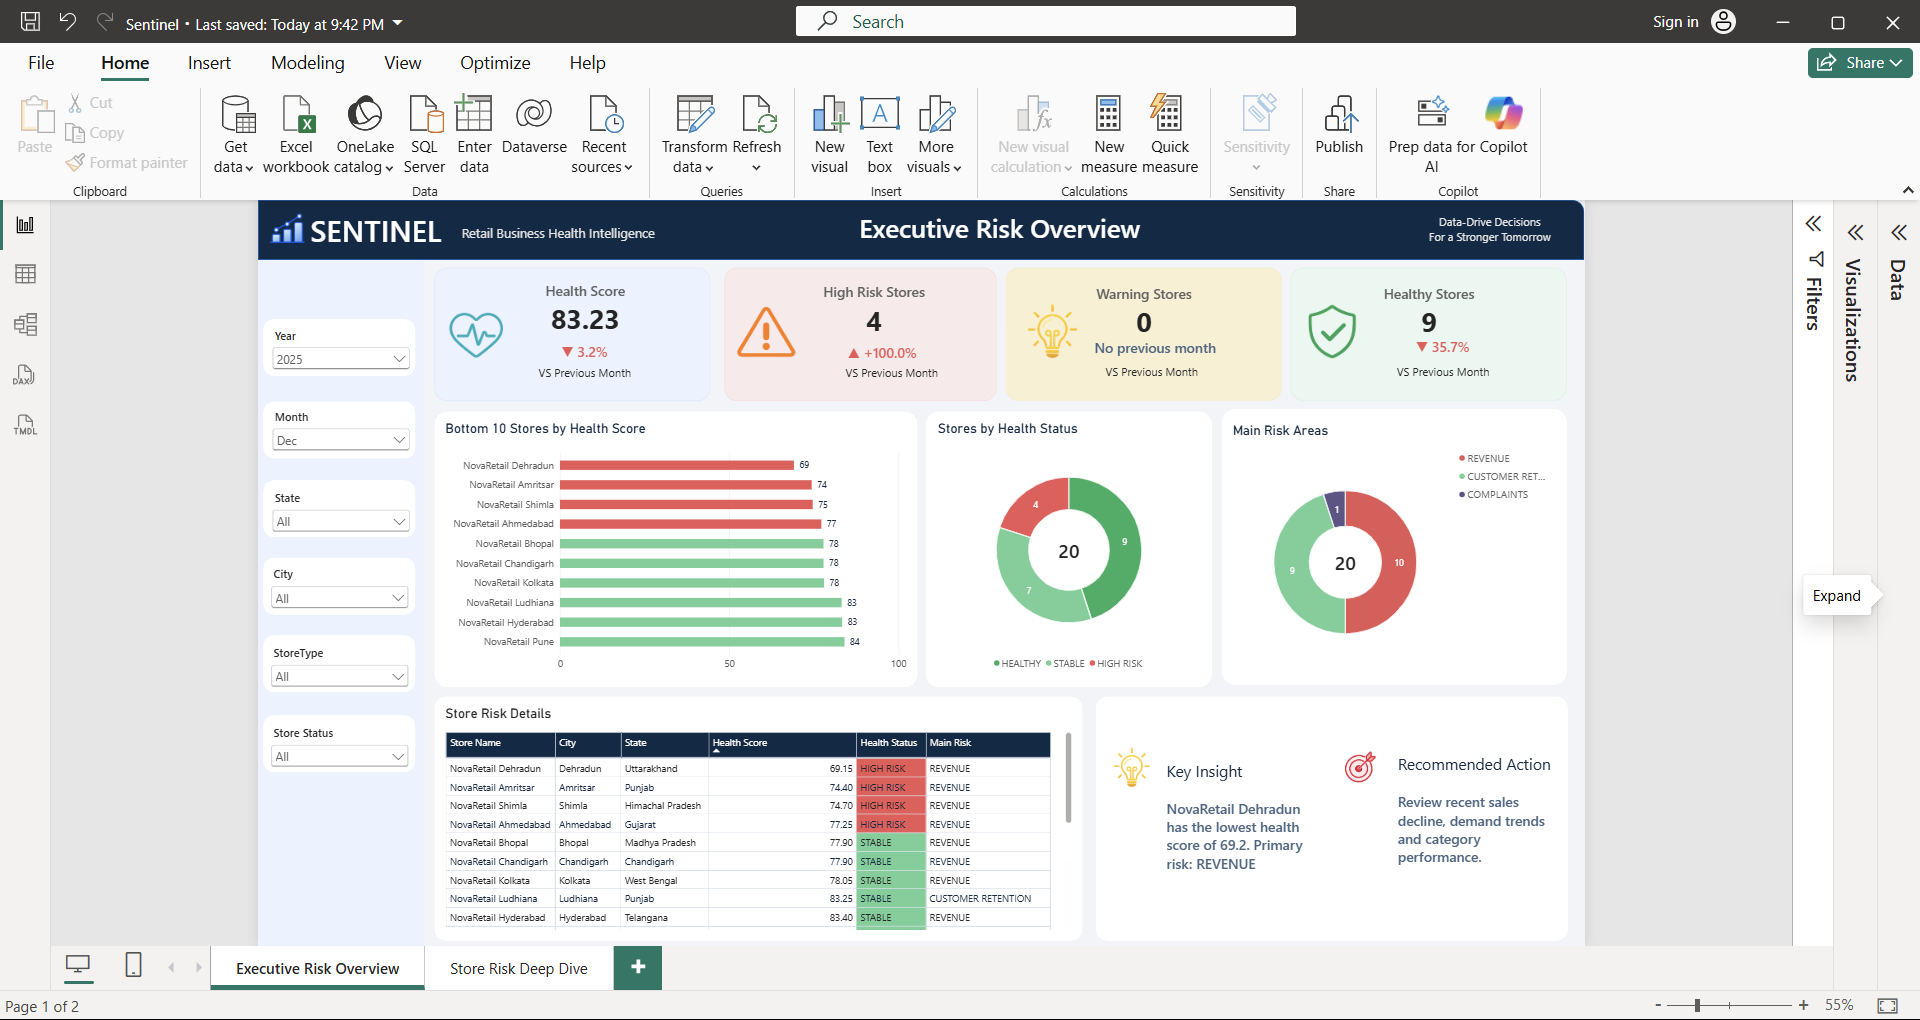

Layout of this report page (visuals, bound fields, positions):
{"tool":"powerbi","page":{"name":"Executive Risk Overview","canvas":[1920,1080],"ordinal":0},"visuals":[{"type":"shape","box":[7.2,177.3,220.8,83.2],"z":0},{"type":"shape","box":[0,0,1920.1,86.9],"z":1000},{"type":"shape","box":[0,86.9,240.7,993.5],"z":2000},{"type":"image","box":[0,8,85.1,67],"z":3000},{"type":"textbox","box":[76,14.5,217.2,65.1],"z":4000},{"type":"textbox","box":[295,34.4,309.5,39.8],"z":5000},{"type":"textbox","box":[870.4,14.5,450.6,72.4],"z":6000},{"type":"textbox","box":[1648,20,269.6,72.4],"z":7000},{"type":"shape","box":[255.2,97.7,399.9,193.6],"z":8000},{"type":"shape","box":[675,97.7,394.5,193.6],"z":9000},{"type":"shape","box":[1083,98,400,193],"z":10000},{"type":"shape","box":[1494.8,98,400,193],"z":11000},{"type":"image","box":[255.2,146.6,121.2,94.1],"z":12000},{"type":"cardVisual","fields":{"Data":["All Measures.Average Health Score"]},"box":[334.8,56.1,278.7,204.5],"z":13000},{"type":"cardVisual","fields":{"Data":["All Measures.Health Score MoM Display"]},"box":[358.3,193.6,229.8,50.7],"z":14000},{"type":"textbox","box":[294,238,360.1,47.1],"z":15000},{"type":"image","box":[675,143,121.2,94.1],"z":16000},{"type":"cardVisual","fields":{"Data":["All Measures.High Risk Stores"]},"box":[752.8,57.9,278.7,204.5],"z":17000},{"type":"cardVisual","fields":{"Data":["All Measures.High Risk MoM Display"]},"box":[798.1,195.4,211.7,50.7],"z":18000},{"type":"textbox","box":[765.5,238,304,135.7],"z":19000},{"type":"image","box":[1089.4,143,121.2,94.1],"z":20000},{"type":"cardVisual","fields":{"Data":["All Measures.Warning Stores"]},"box":[1143.7,59.7,278.7,204.5],"z":21000},{"type":"cardVisual","fields":{"Data":["All Measures.Warning MoM Display"]},"box":[1194.4,188.2,209.9,50.7],"z":22000},{"type":"textbox","box":[1210.7,237.1,166.5,27.1],"z":23000},{"type":"cardVisual","fields":{"Data":["All Measures.Healthy Stores"]},"box":[1556.3,59.7,278.7,204.5],"z":24000},{"type":"image","box":[1494.8,143,121,94],"z":25000},{"type":"cardVisual","fields":{"Data":["All Measures.Healthy MoM Display"]},"box":[1610.6,186.4,209.9,50.7],"z":26000},{"type":"textbox","box":[1648.6,237.1,171.9,29],"z":27000},{"type":"shape","box":[7.2,291.4,220.8,83.2],"z":28000},{"type":"shape","box":[7.2,405,220.8,83.2],"z":29000},{"type":"shape","box":[7.2,518,220.8,83.2],"z":30000},{"type":"shape","box":[7.2,629,220.8,83.2],"z":31000},{"type":"shape","box":[7.2,745.6,220.8,83.2],"z":32000},{"type":"shape","box":[7.2,171.9,220.8,83.2],"z":33000},{"type":"slicer","fields":{"Values":["StoreHealthScores.Year"]},"box":[16.3,184.6,208.1,67],"z":34000},{"type":"slicer","fields":{"Values":["StoreHealthScores.Month"]},"box":[16.3,302.2,208.1,72.4],"z":35000},{"type":"slicer","fields":{"Values":["Stores.State"]},"box":[16.3,419.8,208.1,68.8],"z":36000},{"type":"slicer","fields":{"Values":["Stores.City"]},"box":[14.5,530.2,208.1,70.6],"z":37000},{"type":"slicer","fields":{"Values":["Stores.StoreType"]},"box":[14.5,644.2,208.1,68.8],"z":38000},{"type":"slicer","fields":{"Values":["Stores.StoreStatus"]},"box":[14.5,760.1,208.1,68.8],"z":39000},{"type":"shape","box":[255.2,305.8,700,399.9],"z":40000},{"type":"shape","box":[966.4,305.8,415,399.9],"z":41000},{"type":"shape","box":[1395.2,302.2,500,399.9],"z":42000},{"type":"barChart","title":"Bottom 10 Stores by Health Score","fields":{"Category":["Stores.StoreName"],"Y":["Avg(StoreHealthScores.BusinessHealthScore)"]},"box":[255.2,306.7,699.8,395.2],"z":43000},{"type":"donutChart","title":"Stores by Health Status","fields":{"Category":["StoreHealthScores.HealthStatus"],"Y":["Count(StoreHealthScores.StoreID)"]},"box":[967.4,306.7,411.7,395.2],"z":44000},{"type":"donutChart","title":"Main Risk Areas","fields":{"Y":["Count(StoreHealthScores.StoreID)"],"Category":["StoreHealthScores.MainRisk"]},"box":[1395,307.5,498.9,397.1],"z":45000},{"type":"shape","box":[254.6,718.9,938.8,354.3],"z":46000},{"type":"tableEx","title":"Store Risk Details","fields":{"Values":["Stores.StoreName","Stores.City","Stores.State","Avg(StoreHealthScores.BusinessHealthScore)","StoreHealthScores.HealthStatus","StoreHealthScores.MainRisk"]},"box":[254.6,718.9,938.8,354.3],"z":47000},{"type":"shape","box":[1211.7,718.9,684.3,354.3],"z":48000},{"type":"cardVisual","fields":{"Data":["All Measures.Key Insight"]},"box":[1299.3,745.6,260.6,295],"z":49000},{"type":"image","box":[1210.7,787.2,108.6,68.8],"z":50000},{"type":"cardVisual","fields":{"Data":["All Measures.Recommended Action"]},"box":[1634.1,718.4,260.6,329.4],"z":51000},{"type":"image","box":[1540,787.2,108.6,68],"z":52000}]}

Visuals, with their boxes on the page's 1920x1080 design canvas (x1, y1, x2, y2). These are canvas units, not pixel positions in the 1920x1020 screenshot, which may show the page scaled, cropped or inside an application window:
shape: 7:177:228:260
shape: 0:0:1920:87
shape: 0:87:241:1080
image: 0:8:85:75
textbox: 76:14:293:80
textbox: 295:34:604:74
textbox: 870:14:1321:87
textbox: 1648:20:1918:92
shape: 255:98:655:291
shape: 675:98:1070:291
shape: 1083:98:1483:291
shape: 1495:98:1895:291
image: 255:147:376:241
cardVisual - All Measures.Average Health Score: 335:56:614:261
cardVisual - All Measures.Health Score MoM Display: 358:194:588:244
textbox: 294:238:654:285
image: 675:143:796:237
cardVisual - All Measures.High Risk Stores: 753:58:1032:262
cardVisual - All Measures.High Risk MoM Display: 798:195:1010:246
textbox: 766:238:1070:374
image: 1089:143:1211:237
cardVisual - All Measures.Warning Stores: 1144:60:1422:264
cardVisual - All Measures.Warning MoM Display: 1194:188:1404:239
textbox: 1211:237:1377:264
cardVisual - All Measures.Healthy Stores: 1556:60:1835:264
image: 1495:143:1616:237
cardVisual - All Measures.Healthy MoM Display: 1611:186:1820:237
textbox: 1649:237:1820:266
shape: 7:291:228:375
shape: 7:405:228:488
shape: 7:518:228:601
shape: 7:629:228:712
shape: 7:746:228:829
shape: 7:172:228:255
slicer - StoreHealthScores.Year: 16:185:224:252
slicer - StoreHealthScores.Month: 16:302:224:375
slicer - Stores.State: 16:420:224:489
slicer - Stores.City: 14:530:223:601
slicer - Stores.StoreType: 14:644:223:713
slicer - Stores.StoreStatus: 14:760:223:829
shape: 255:306:955:706
shape: 966:306:1381:706
shape: 1395:302:1895:702
"Bottom 10 Stores by Health Score" barChart: 255:307:955:702
"Stores by Health Status" donutChart: 967:307:1379:702
"Main Risk Areas" donutChart: 1395:308:1894:705
shape: 255:719:1193:1073
"Store Risk Details" tableEx: 255:719:1193:1073
shape: 1212:719:1896:1073
cardVisual - All Measures.Key Insight: 1299:746:1560:1041
image: 1211:787:1319:856
cardVisual - All Measures.Recommended Action: 1634:718:1895:1048
image: 1540:787:1649:855
